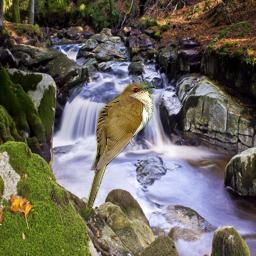Cuckoo: (84, 82, 156, 215)
